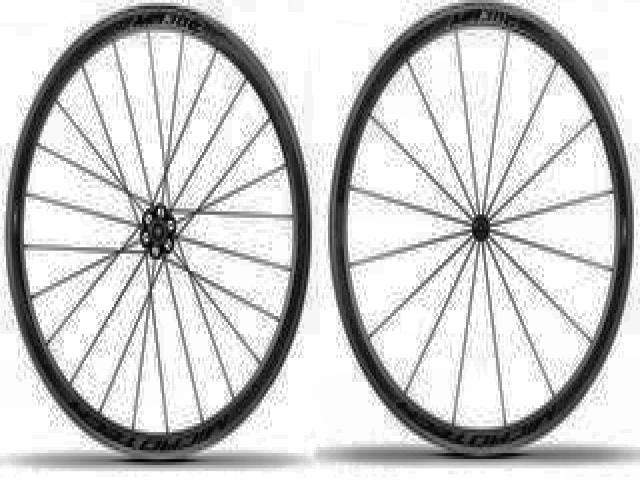wheel: (3, 3, 314, 474), (326, 0, 634, 465)
